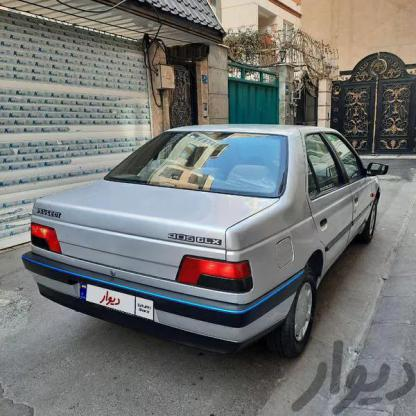car: (18, 123, 397, 340)
